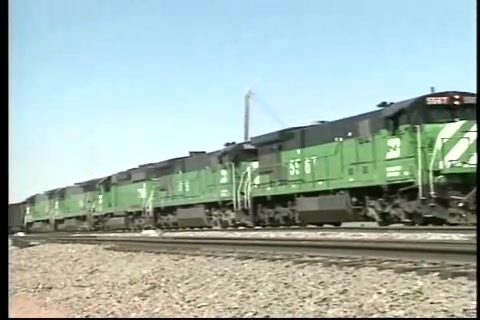train: (8, 90, 479, 237)
